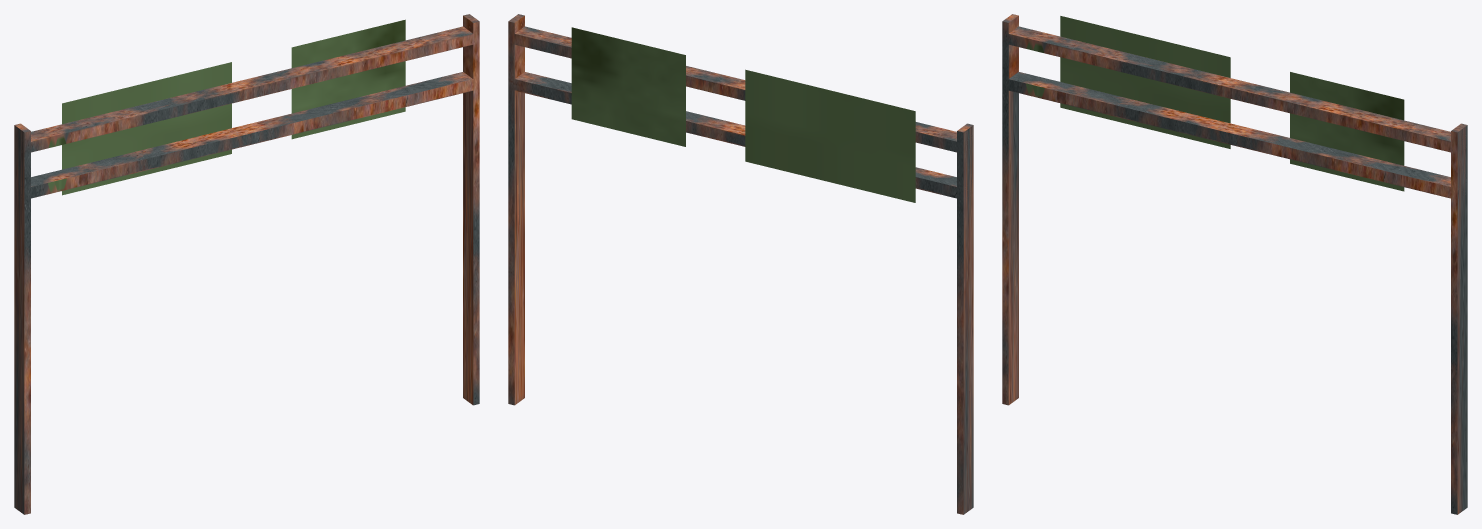
The model's file is Sign_Straight.fbx.
3 renders of one model, left to right at view 1: azimuth 30°, elevation 25°; view 2: azimuth 150°, elevation 25°; view 3: azimuth 330°, elevation 25°, orthographic.
Visible parts, largest first — view 1: Sign_Straight.001, Sign_Straight, Plane.004; view 2: Sign_Straight.001, Sign_Straight, Plane.004; view 3: Sign_Straight.001, Sign_Straight, Plane.004.
Boxes of the visible parts, x1,y1,x2,y2 form: Sign_Straight.001: (14,14,479,514); Sign_Straight: (62,62,231,195); Plane.004: (291,19,405,139); Sign_Straight.001: (508,14,973,514); Sign_Straight: (745,69,915,202); Plane.004: (571,27,685,146); Sign_Straight.001: (1002,14,1467,514); Sign_Straight: (1060,16,1230,148); Plane.004: (1290,72,1404,191).
Size of the model in its own units: 367 by 302 by 14.37.
Materials: 1 (1 with a texture image).
